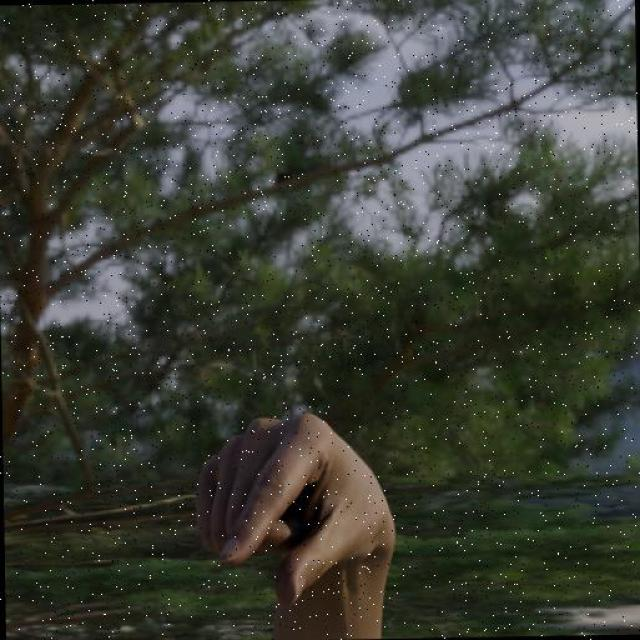Q: (186, 406, 403, 613)
